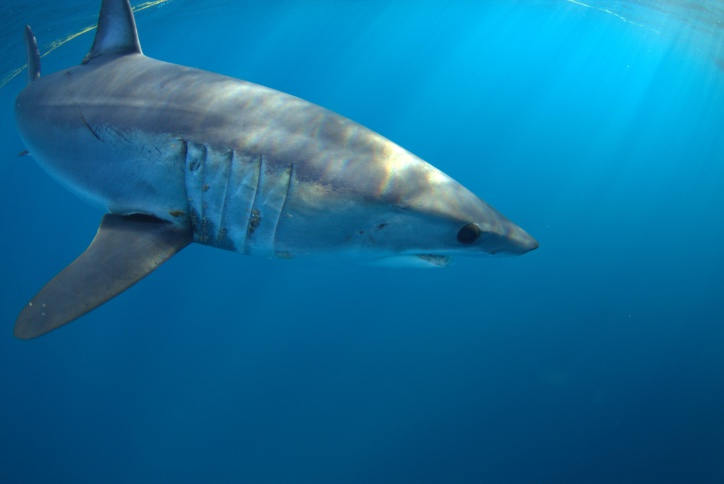Mako: (4, 1, 559, 348)
